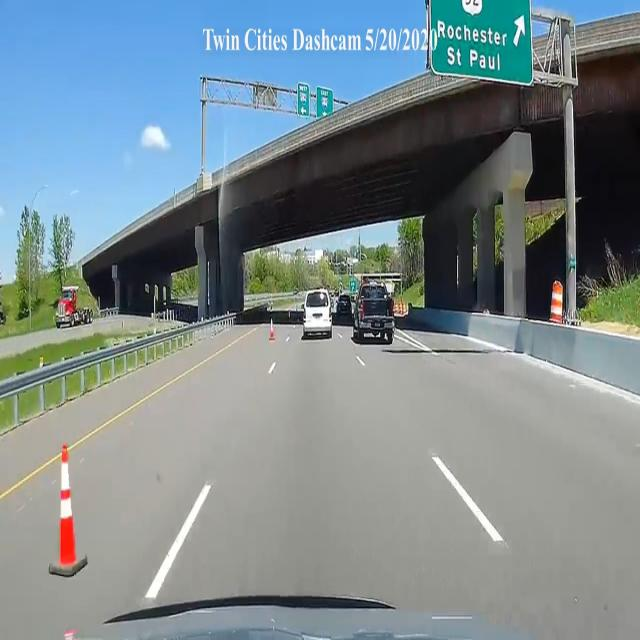cone: (54, 436, 79, 570), (268, 318, 277, 343)
